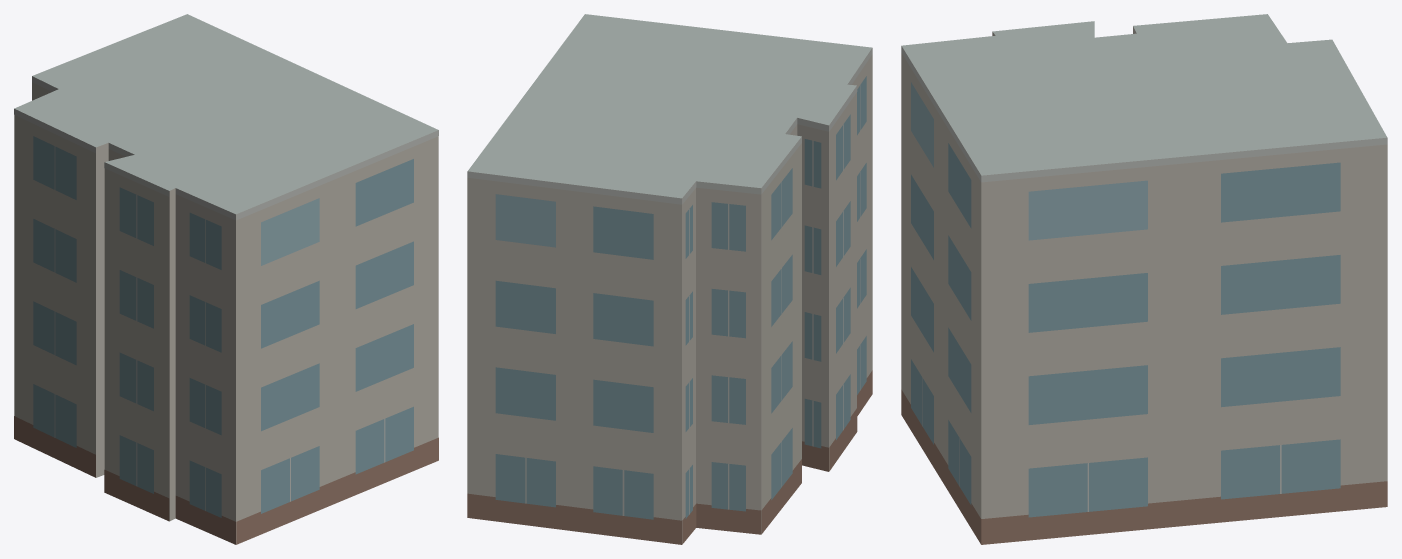
File: survey-upis-32475045.glb
3 renders of one model, left to right at view 1: azimuth 30°, elevation 25°; view 2: azimuth 150°, elevation 25°; view 3: azimuth 270°, elevation 25°, orthographic. The views are drawn at different scales.
Parts seen in each view (by area): view 1: survey-upis-32475045.tmp; view 2: survey-upis-32475045.tmp; view 3: survey-upis-32475045.tmp.
Boxes of the visible parts, x1,y1,x2,y2 form: survey-upis-32475045.tmp: (14,14,438,544); survey-upis-32475045.tmp: (467,14,872,544); survey-upis-32475045.tmp: (901,14,1387,544).
Bounding box in the file's own units: 12.45 × 13.25 × 15.82.
